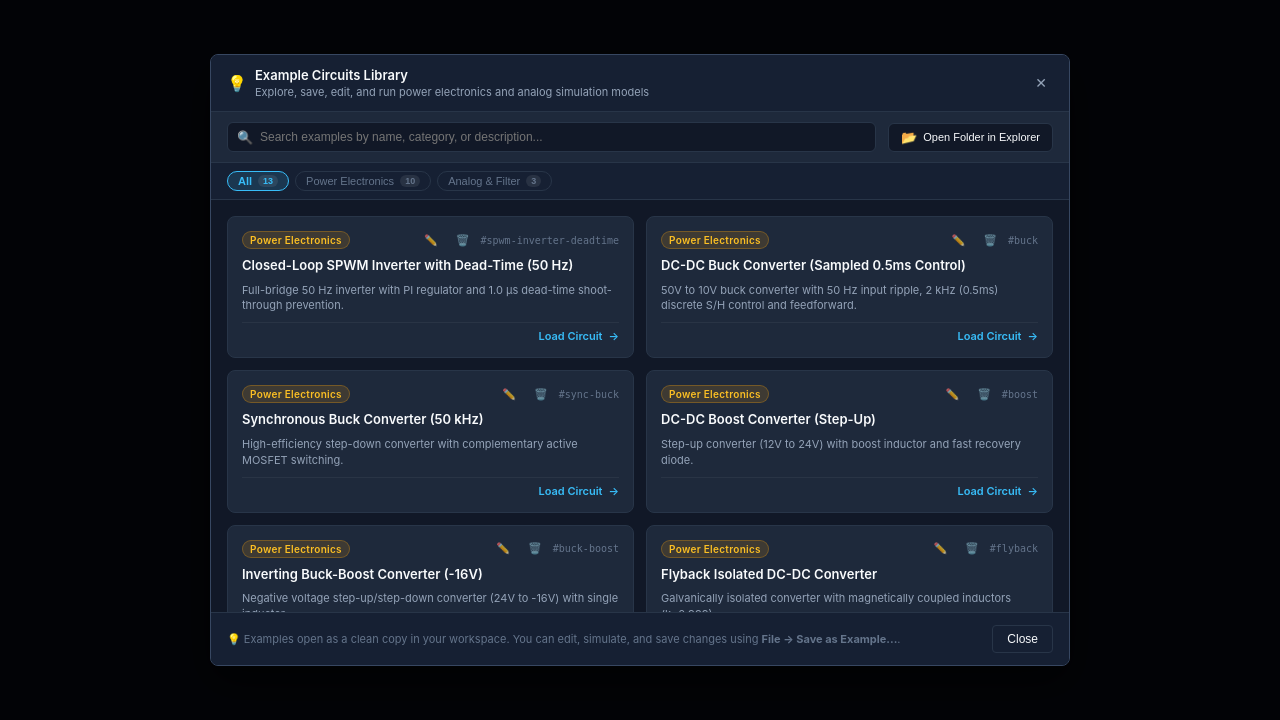
Test case: ExamplesModal Component › filters examples by search query
Type "resonant" into the field with placeholder "Search examples by name, category, or description...".
click(552, 137); type("resonant")  # box x1=227 y1=122 x2=876 y2=152
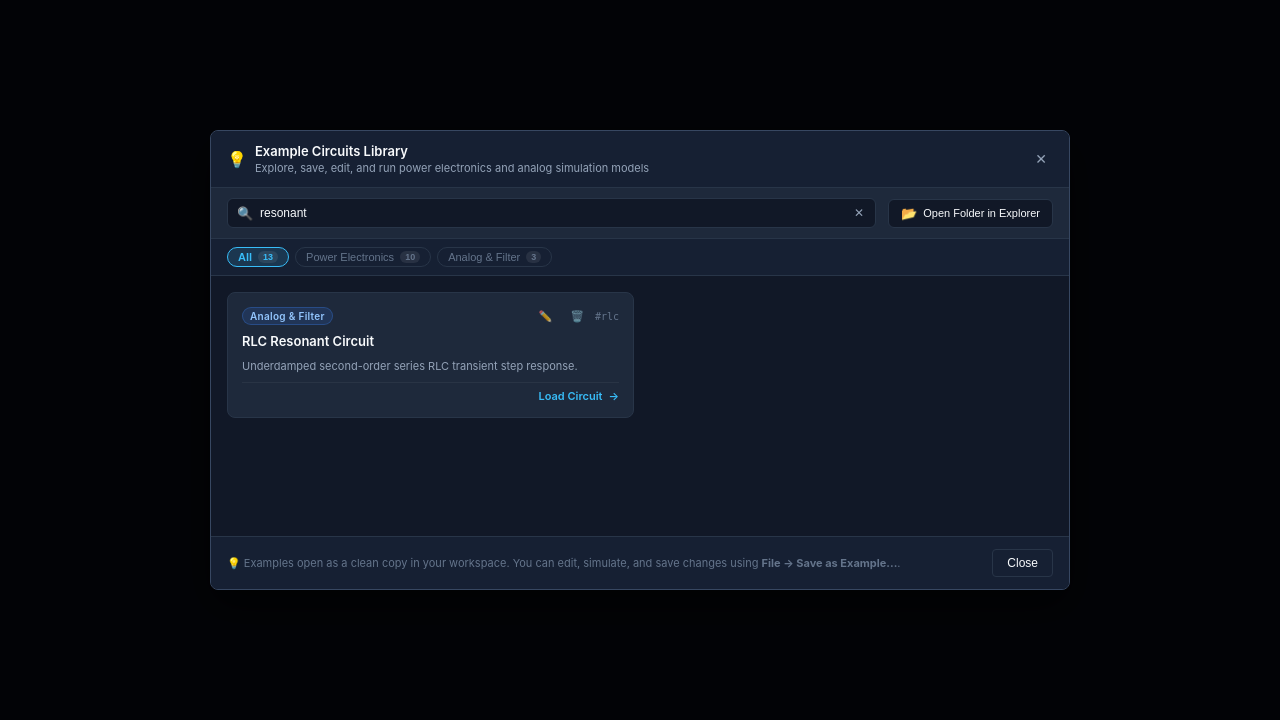
Check: the heading "RLC Resonant Circuit" is shown, box x1=242 y1=333 x2=374 y2=349
Check: the button "DC-DC Buck Converter (Sampled 0.5ms Control)" is gone
Note: Clear search
Click the 2nd button titled "Clear search".
click(859, 213)  # box x1=850 y1=204 x2=868 y2=222
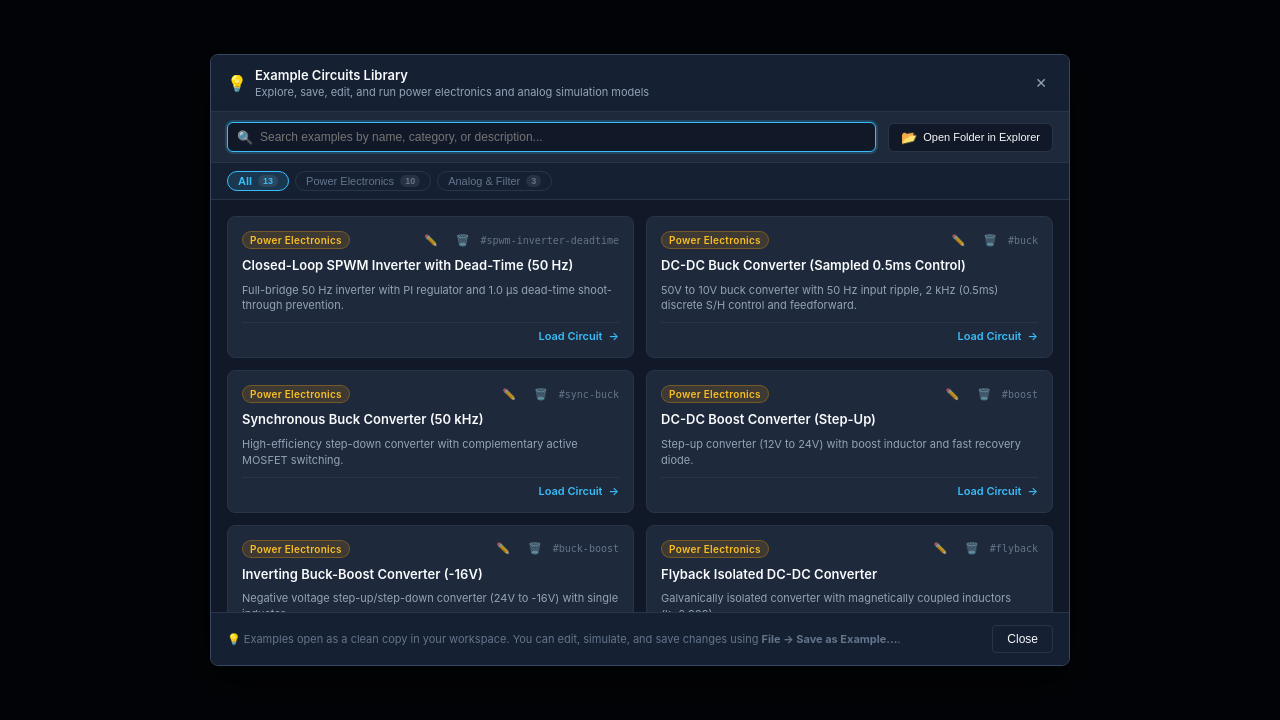
Check: the heading "DC-DC Buck Converter (Sampled 0.5ms Control)" is shown, box x1=661 y1=257 x2=966 y2=273
